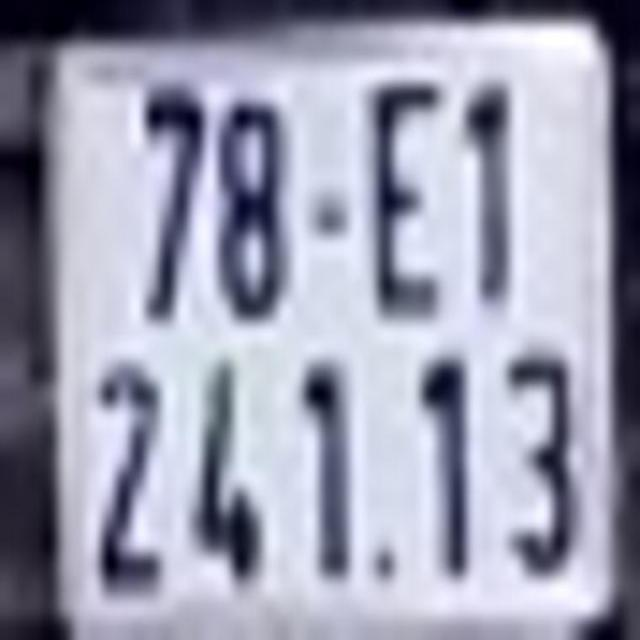1: (302, 349, 350, 582), (467, 85, 519, 292), (426, 361, 474, 578)
2: (78, 358, 165, 582)
3: (509, 354, 574, 572)
4: (191, 360, 260, 570)
7: (138, 90, 207, 322)
8: (222, 100, 286, 316)
E: (373, 94, 446, 308)
